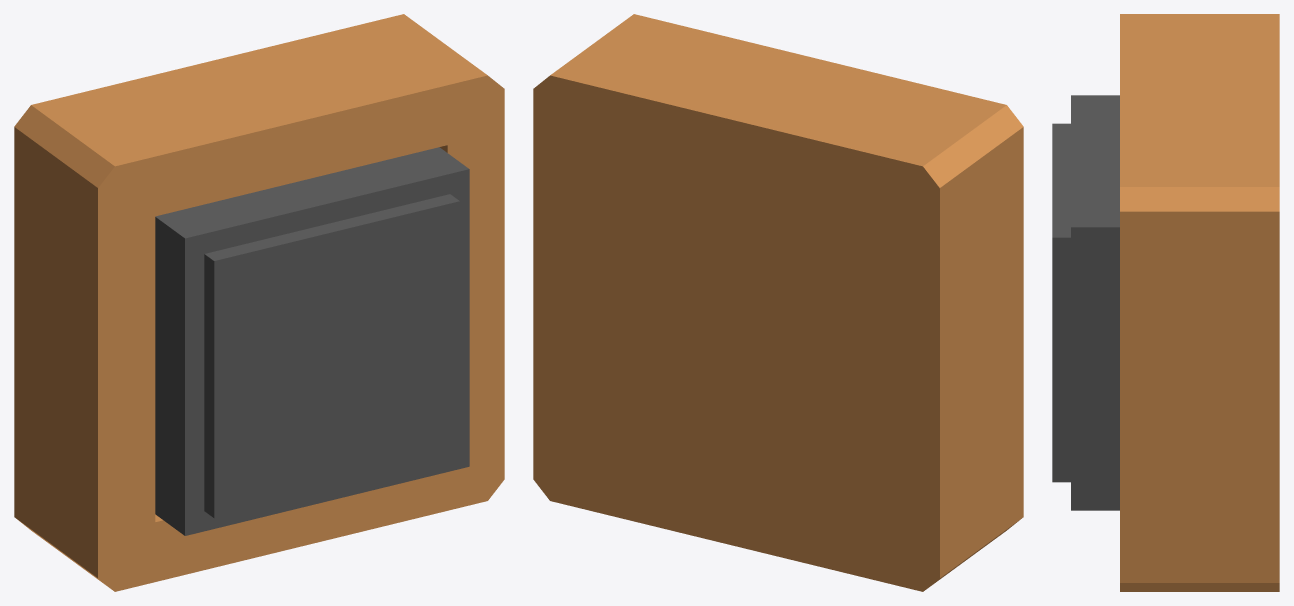
File: ButtonFirstProt.fbx
The picture shows the model from 3 angles, left to right: view 1: azimuth 30°, elevation 25°; view 2: azimuth 150°, elevation 25°; view 3: azimuth 270°, elevation 25°; orthographic projection. The views are drawn at different scales.
Parts seen in each view (by area): view 1: Cube, Cube.001; view 2: Cube; view 3: Cube, Cube.001.
Boxes of the visible parts, bbox=[...] form: Cube: bbox=[14, 14, 504, 591]; Cube.001: bbox=[155, 147, 469, 535]; Cube: bbox=[533, 14, 1023, 591]; Cube: bbox=[1120, 14, 1279, 591]; Cube.001: bbox=[1052, 95, 1119, 510].
Size of the model in its own units: 123 by 123 by 62.56.
